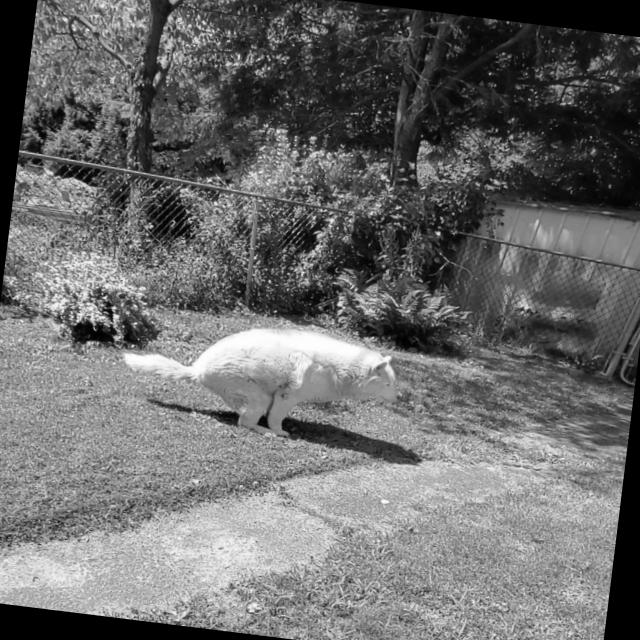squatting: (108, 304, 418, 455)
